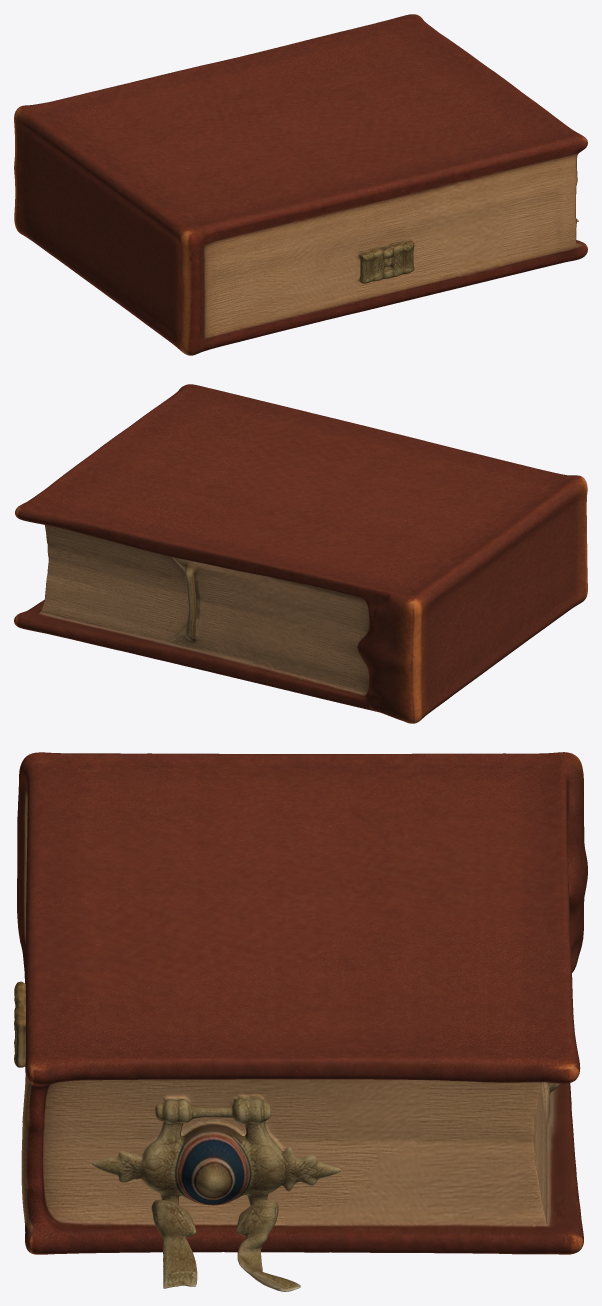
Rendered from Meshy_AI_a_book_1009172452_texture.fbx.
The picture shows the model from 3 angles, top to bottom: view 1: azimuth 30°, elevation 25°; view 2: azimuth 150°, elevation 25°; view 3: azimuth 270°, elevation 25°; orthographic projection. The views are drawn at different scales.
Visible parts, largest first — view 1: Mesh_0; view 2: Mesh_0; view 3: Mesh_0.
Boxes of the visible parts, x1,y1,x2,y2 form: Mesh_0: (14, 14, 587, 355); Mesh_0: (14, 384, 587, 723); Mesh_0: (14, 752, 587, 1291).
Size of the model in its own units: 190 by 51.49 by 132.
Materials: 1 (1 with a texture image).
